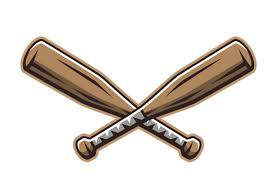baseball bat: (21, 36, 205, 162), (74, 36, 256, 160)
